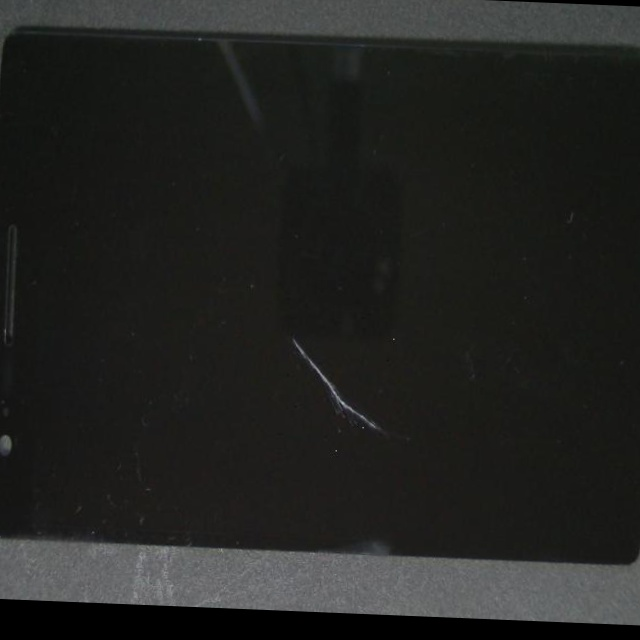scratch: (61, 100, 490, 575)
